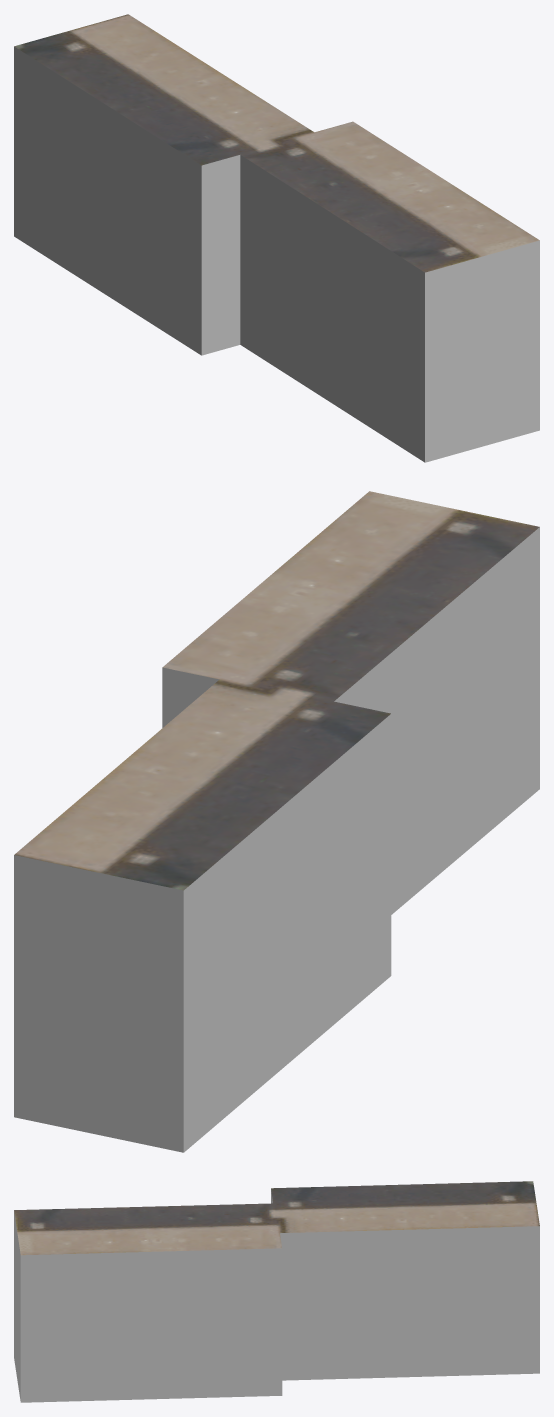
Rendered from DEBW_0010007Tx6N.gltf.
3 renders of one model, top to bottom at view 1: azimuth 30°, elevation 25°; view 2: azimuth 150°, elevation 25°; view 3: azimuth 270°, elevation 25°, orthographic. The views are drawn at different scales.
Visible parts, largest first — view 1: Z_UP; view 2: Z_UP; view 3: Z_UP.
Boxes of the visible parts, box(x1,y1,x2,y2) form: Z_UP: box(14, 14, 539, 462); Z_UP: box(14, 491, 539, 1152); Z_UP: box(14, 1181, 539, 1402).
Size of the model in its own units: 18.66 by 17.32 by 55.99.
Materials: 2 (1 with a texture image).
